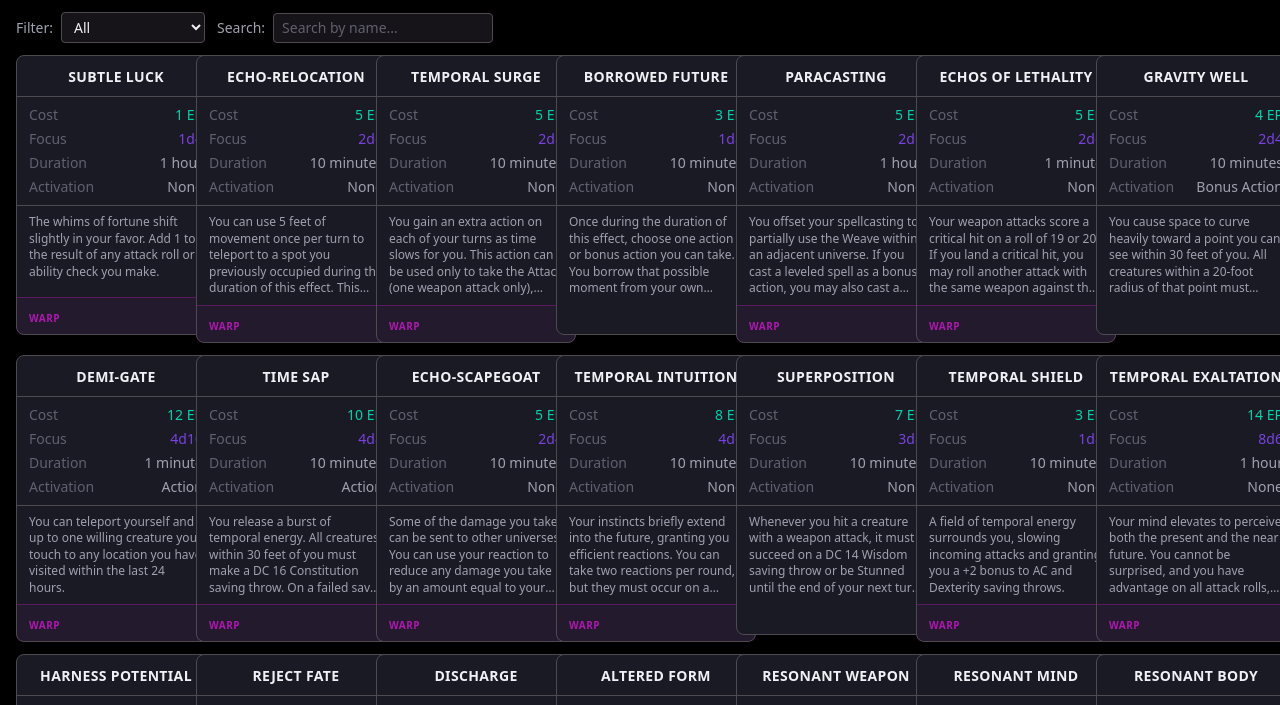
Test: CollectionGrid › selecting a tag filters to only matching features
The image size is (1280, 705).
Select "healing" in the dropdown named "Filter by tag" at (133, 28), box [61, 12, 205, 43]
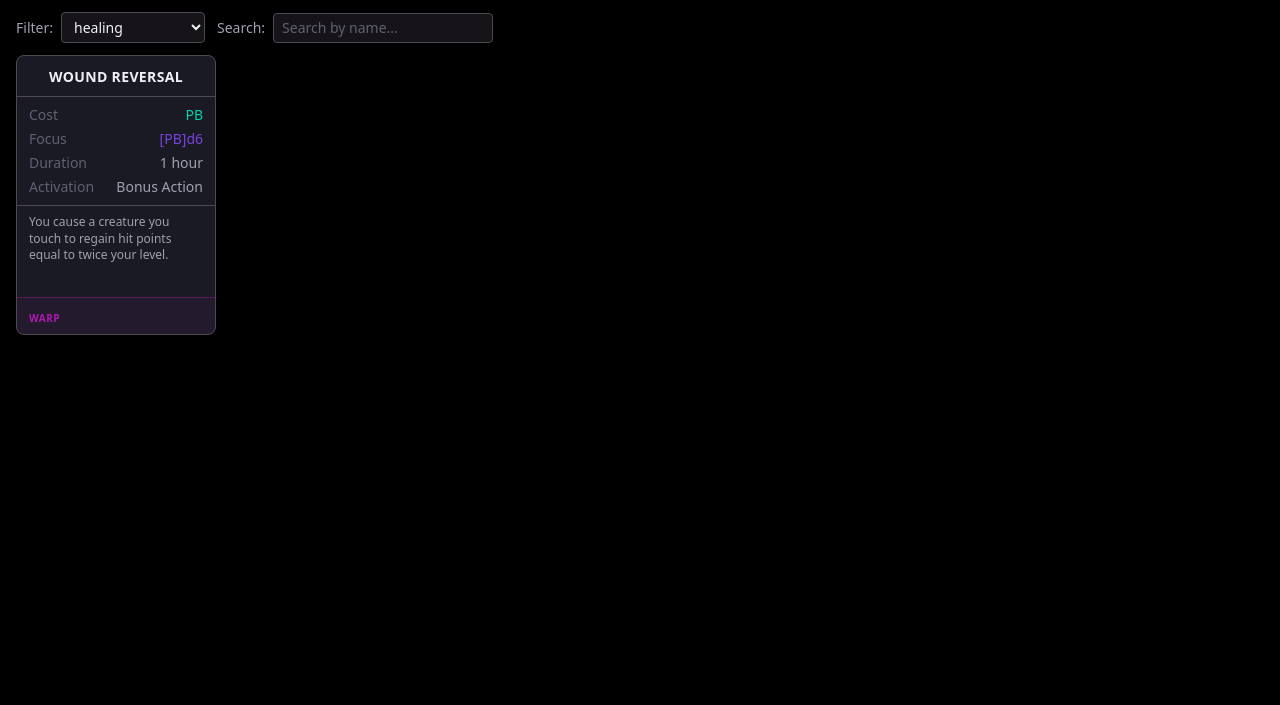
Result: the number of buttons is 1 at [16, 55, 216, 335]
